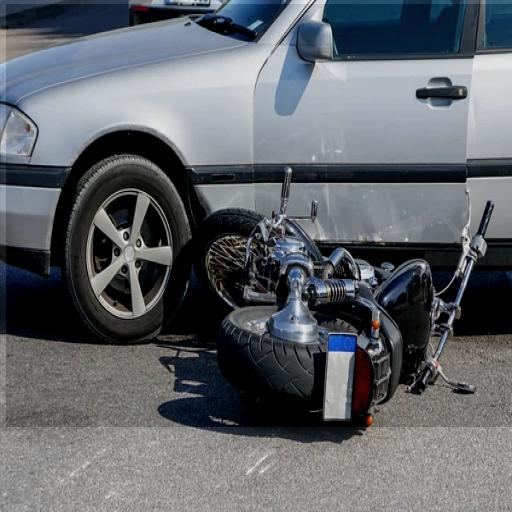小汽车撞自行车: (6, 4, 512, 427)
